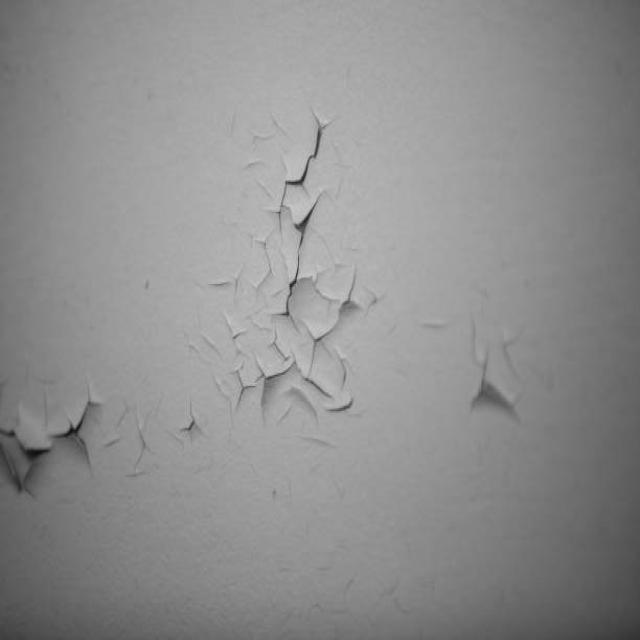peeling paint: (0, 0, 536, 500)
